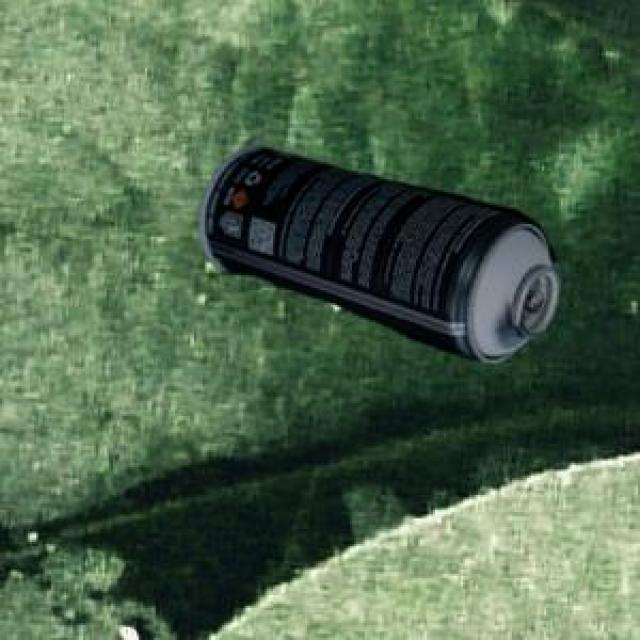logam: (197, 144, 558, 359)
